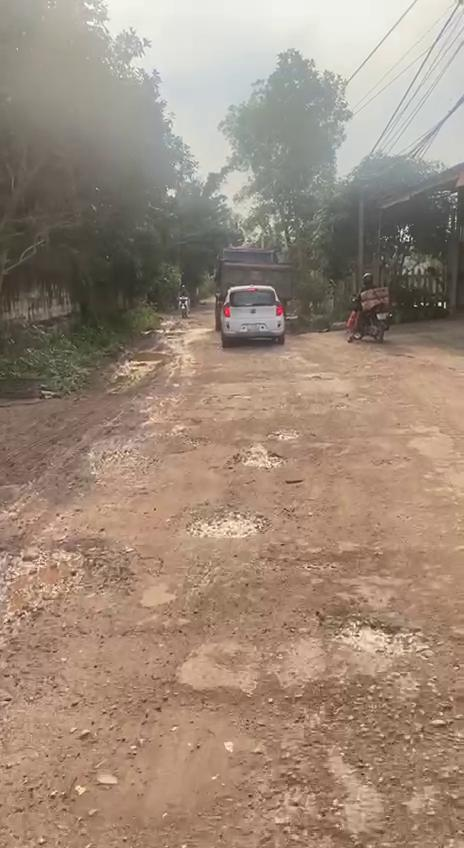pothole: (0, 540, 93, 629), (332, 614, 412, 654), (184, 507, 272, 541), (229, 446, 289, 472)
